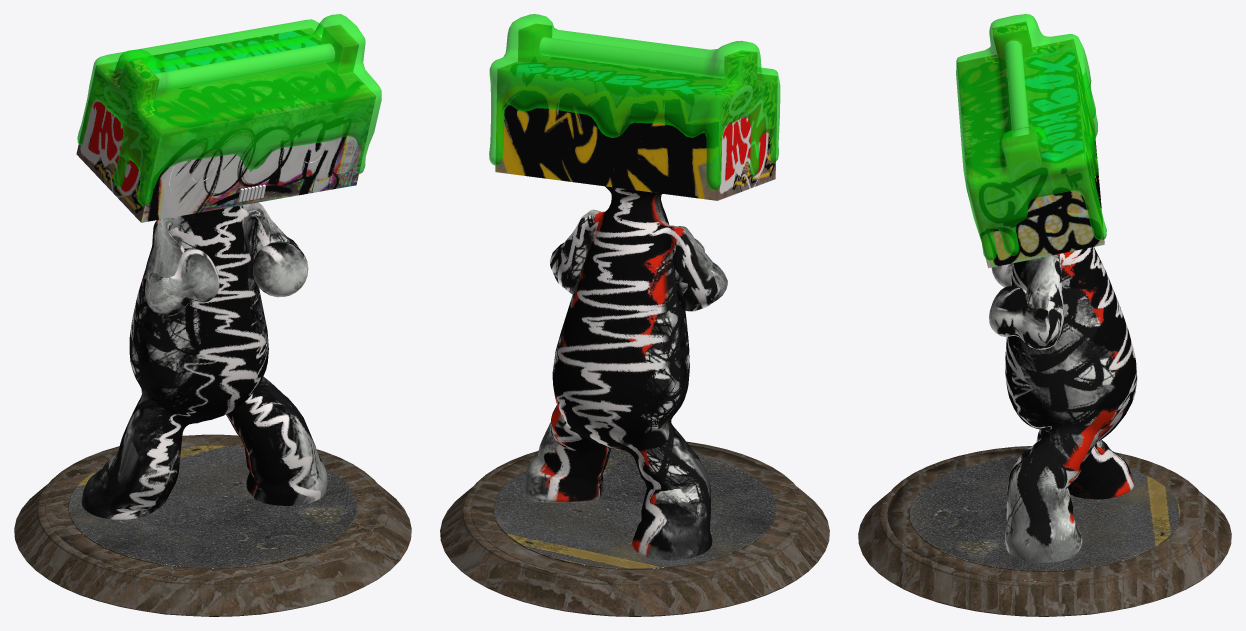
The picture shows the model from 3 angles, left to right: view 1: azimuth 30°, elevation 25°; view 2: azimuth 150°, elevation 25°; view 3: azimuth 270°, elevation 25°; orthographic projection. The views are drawn at different scales.
Visible parts, largest first — view 1: BBody; view 2: BBody; view 3: BBody.
Part boxes in pixels (x1,y1,x2,y2): BBody: (14,14,411,616); BBody: (440,14,829,616); BBody: (858,14,1231,616).
Size of the model in its own units: 1.45 by 2.06 by 1.45.
Materials: 6 (4 with a texture image).
